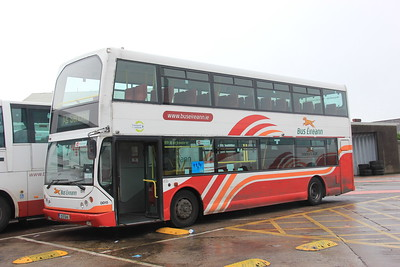bus: (42, 46, 354, 229)
